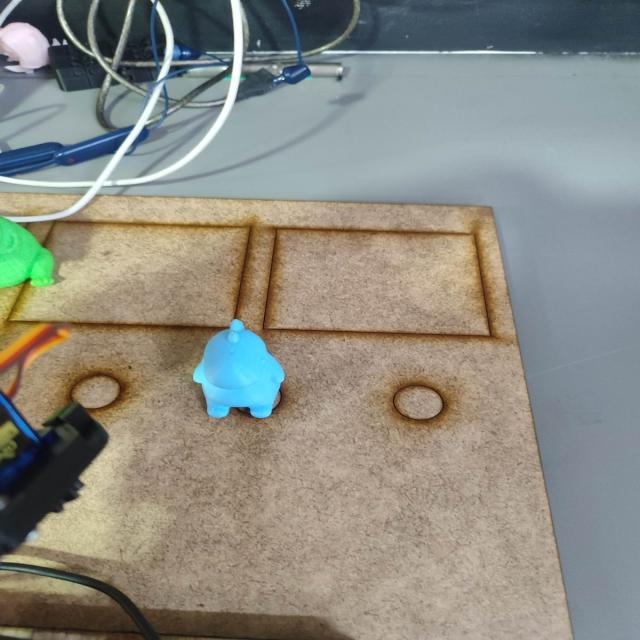DINO: (182, 300, 310, 432)
